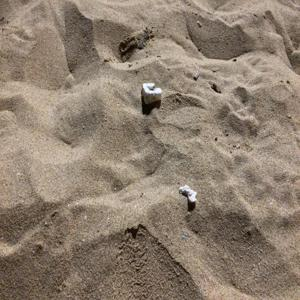plastic: (138, 78, 174, 114), (176, 182, 204, 207)
